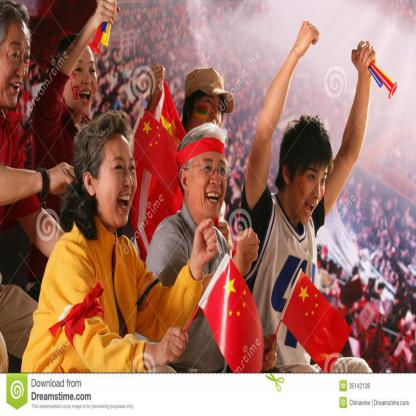face: (102, 136, 138, 226), (193, 144, 228, 220), (3, 22, 31, 109), (295, 157, 329, 225), (67, 45, 98, 116), (198, 90, 223, 138)
